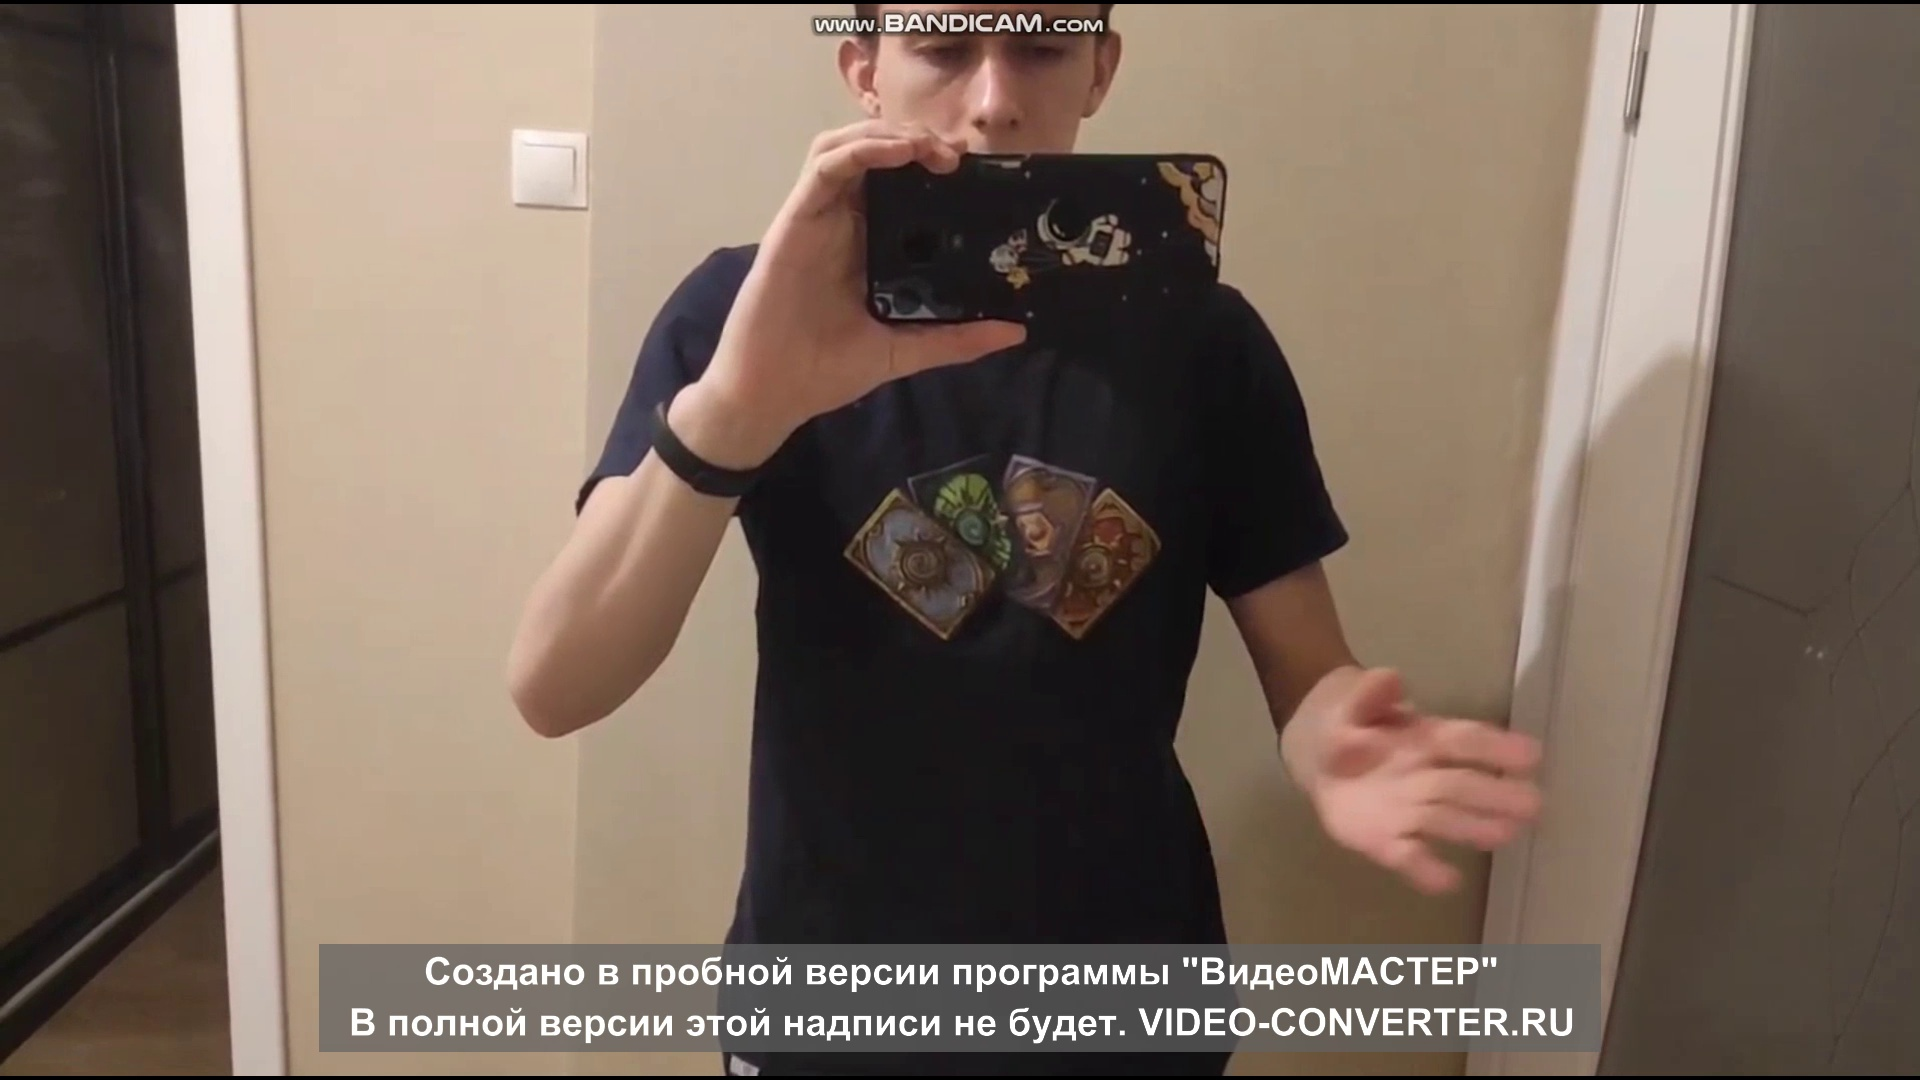Ладонь: (1317, 670, 1542, 894)
